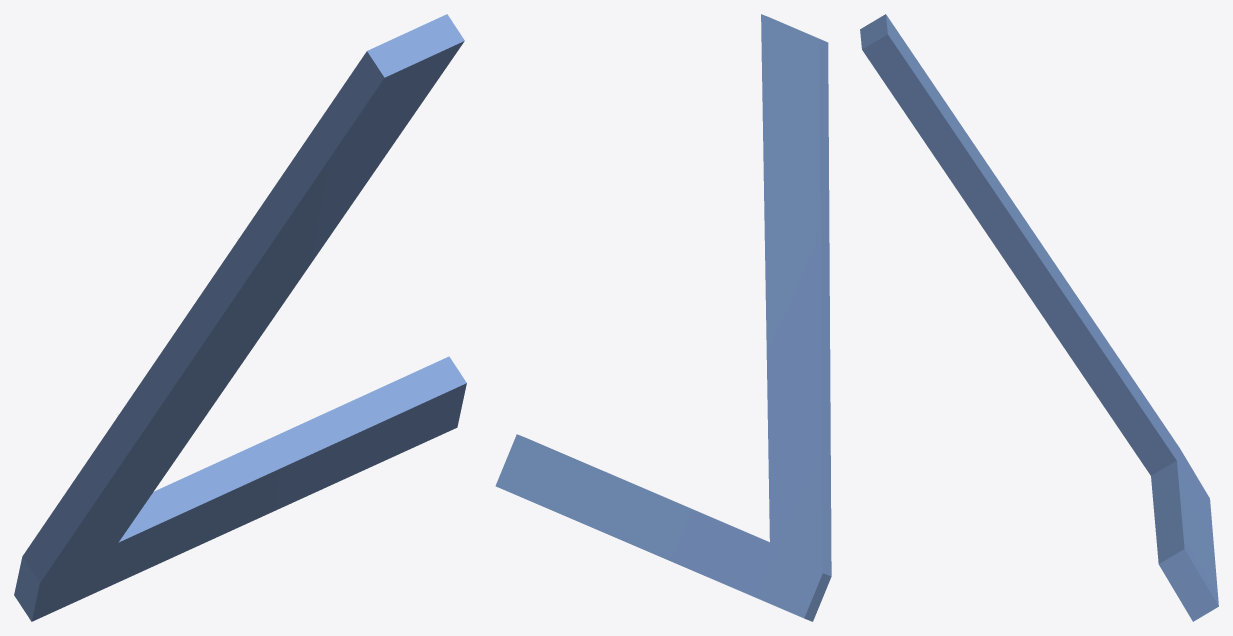
File: New_Number_7.gltf
3 renders of one model, left to right at view 1: azimuth 30°, elevation 25°; view 2: azimuth 150°, elevation 25°; view 3: azimuth 270°, elevation 25°, orthographic. The views are drawn at different scales.
Parts seen in each view (by area): view 1: Part 34; view 2: Part 34; view 3: Part 34.
Part boxes in pixels (box(x1,y1,x2,y2)): Part 34: box(14, 14, 466, 621); Part 34: box(495, 14, 831, 621); Part 34: box(860, 14, 1218, 621).
Bounding box in the file's own units: 0.00369 × 0.00537 × 0.003.
